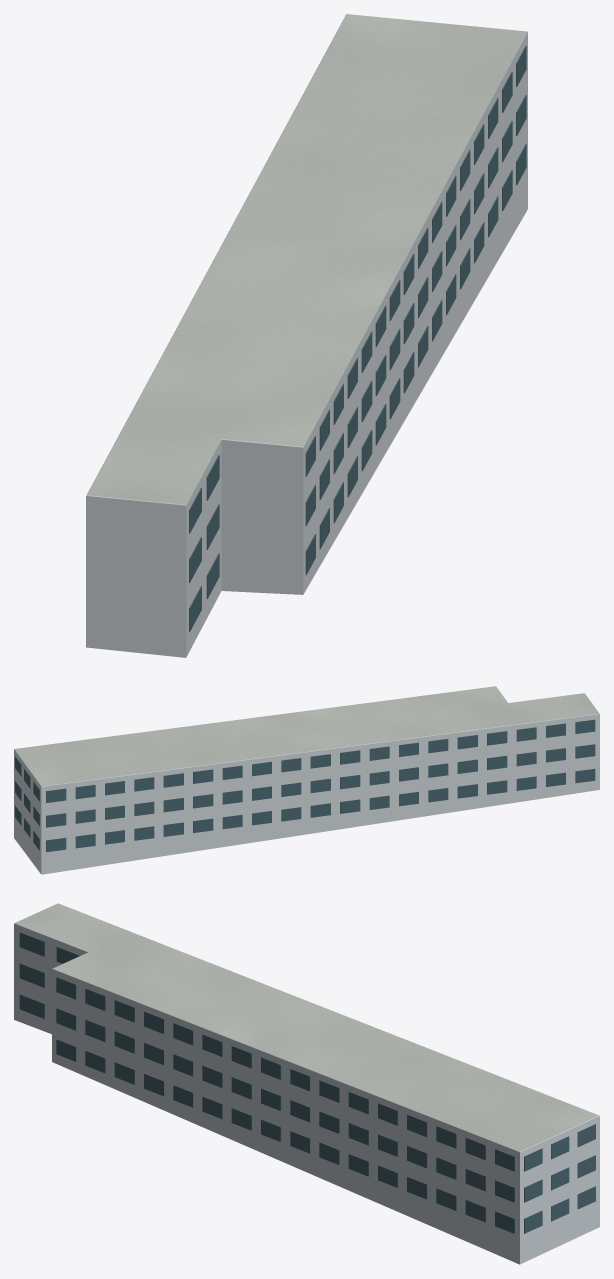
The model's file is intact.glb.
3 views of the same model, one above another, from view 1: azimuth 30°, elevation 25°; view 2: azimuth 150°, elevation 25°; view 3: azimuth 270°, elevation 25° (orthographic). The views are drawn at different scales.
Parts seen in each view (by area): view 1: SM_osm-524161868_Intact_00, SM_osm-524161868_Intact_01; view 2: SM_osm-524161868_Intact_00, SM_osm-524161868_Intact_01; view 3: SM_osm-524161868_Intact_00, SM_osm-524161868_Intact_01.
Boxes of the visible parts, x1,y1,x2,y2 form: SM_osm-524161868_Intact_00: (86,14,527,657); SM_osm-524161868_Intact_01: (189,45,526,631); SM_osm-524161868_Intact_00: (14,686,599,874); SM_osm-524161868_Intact_01: (15,719,595,852); SM_osm-524161868_Intact_00: (14,903,599,1264); SM_osm-524161868_Intact_01: (19,932,595,1233).
Size of the model in its own units: 2.2 by 0.4643 by 2.19.
4 materials, 1 textured.
